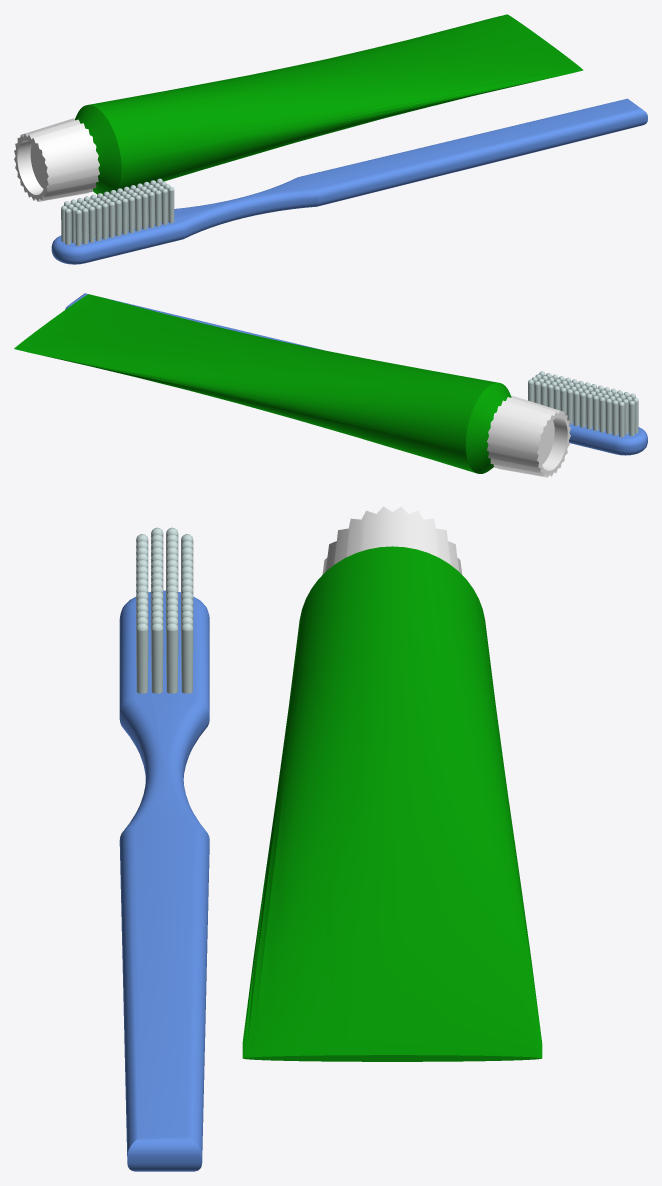
Rendered from toothbrush.obj.
3 views of the same model, one above another, from view 1: azimuth 30°, elevation 25°; view 2: azimuth 150°, elevation 25°; view 3: azimuth 270°, elevation 25° (orthographic). The views are drawn at different scales.
Parts seen in each view (by area): view 1: Mesh64 Group66 Group65 toothpaste1 Model, Mesh13 Group14 Group1 toothpaste1 Model, Mesh65 Group67 Group65 toothpaste1 Model; view 2: Mesh64 Group66 Group65 toothpaste1 Model, Mesh65 Group67 Group65 toothpaste1 Model, Mesh13 Group14 Group1 toothpaste1 Model; view 3: Mesh64 Group66 Group65 toothpaste1 Model, Mesh13 Group14 Group1 toothpaste1 Model, Mesh65 Group67 Group65 toothpaste1 Model.
Part boxes in pixels (x1,y1,x2,y2): Mesh64 Group66 Group65 toothpaste1 Model: (75,14,583,195); Mesh13 Group14 Group1 toothpaste1 Model: (51,98,647,264); Mesh65 Group67 Group65 toothpaste1 Model: (14,118,99,201); Mesh64 Group66 Group65 toothpaste1 Model: (14,294,511,473); Mesh65 Group67 Group65 toothpaste1 Model: (487,395,570,477); Mesh13 Group14 Group1 toothpaste1 Model: (65,293,647,455); Mesh64 Group66 Group65 toothpaste1 Model: (242,546,542,1061); Mesh13 Group14 Group1 toothpaste1 Model: (119,590,209,1171); Mesh65 Group67 Group65 toothpaste1 Model: (322,506,462,574).
Bounding box in the file's own units: 171 × 24.3 × 54.82.
